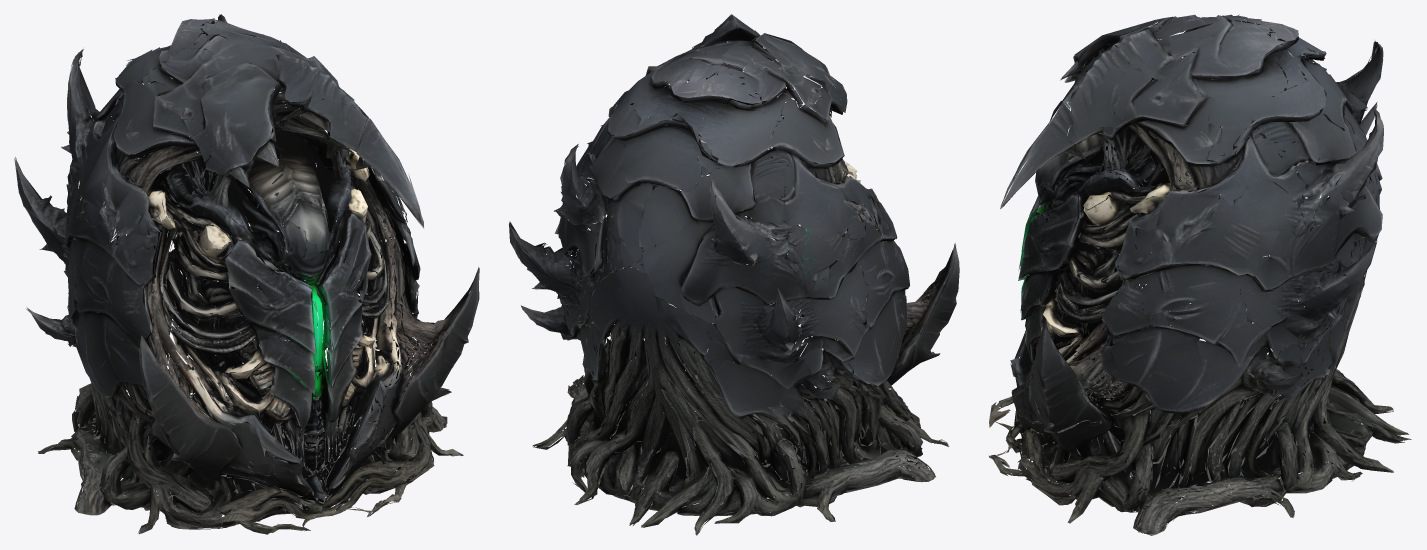
Rendered from carapace_sentry_chrysalis.glb.
3 renders of one model, left to right at view 1: azimuth 30°, elevation 25°; view 2: azimuth 150°, elevation 25°; view 3: azimuth 270°, elevation 25°, orthographic. The views are drawn at different scales.
Visible parts, largest first — view 1: node_0; view 2: node_0; view 3: node_0.
Boxes of the visible parts, box(x1,y1,x2,y2) form: node_0: box(14, 14, 479, 534); node_0: box(509, 14, 959, 535); node_0: box(989, 14, 1411, 535).
Size of the model in its own units: 0.8045 by 0.8566 by 0.7713.
1 material, 1 textured.
